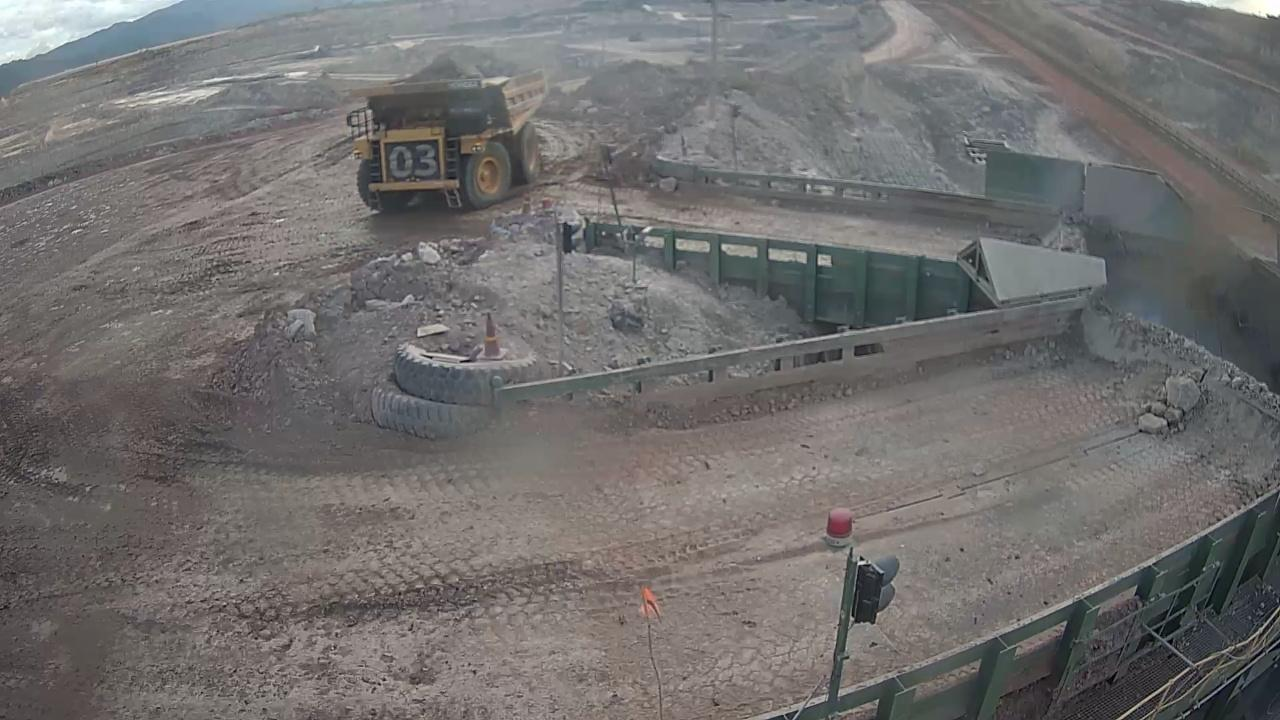front_number: (383, 143, 446, 180)
mining_truck: (344, 66, 549, 214)
